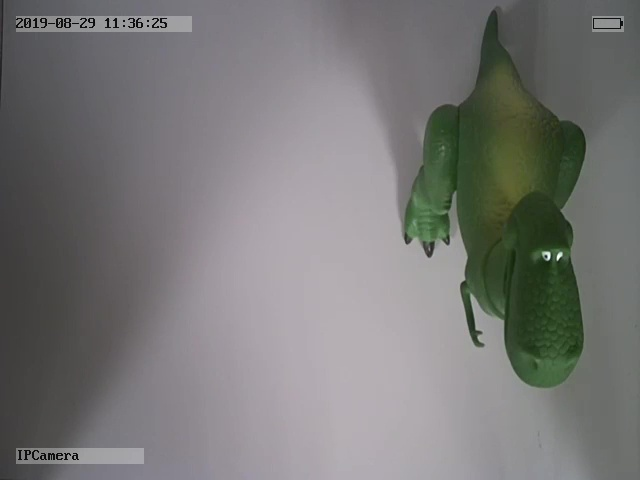rex: (404, 6, 590, 392)
